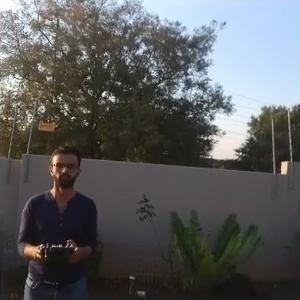follow: (10, 140, 100, 298)
